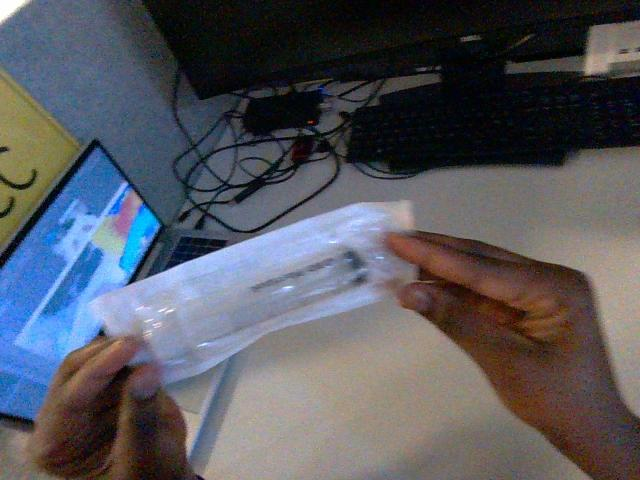syringe: (90, 202, 413, 382)
